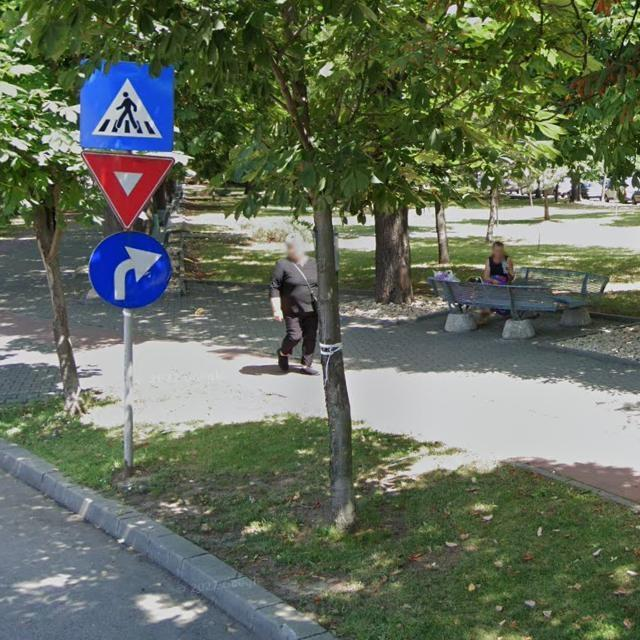info_crosswalk: (79, 56, 175, 152)
prio_give_way: (82, 149, 176, 231)
